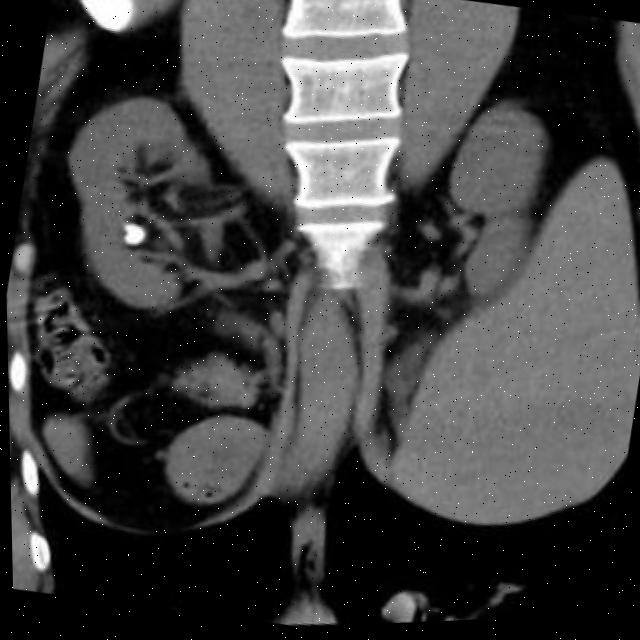Tas_Var: (118, 217, 149, 255)
